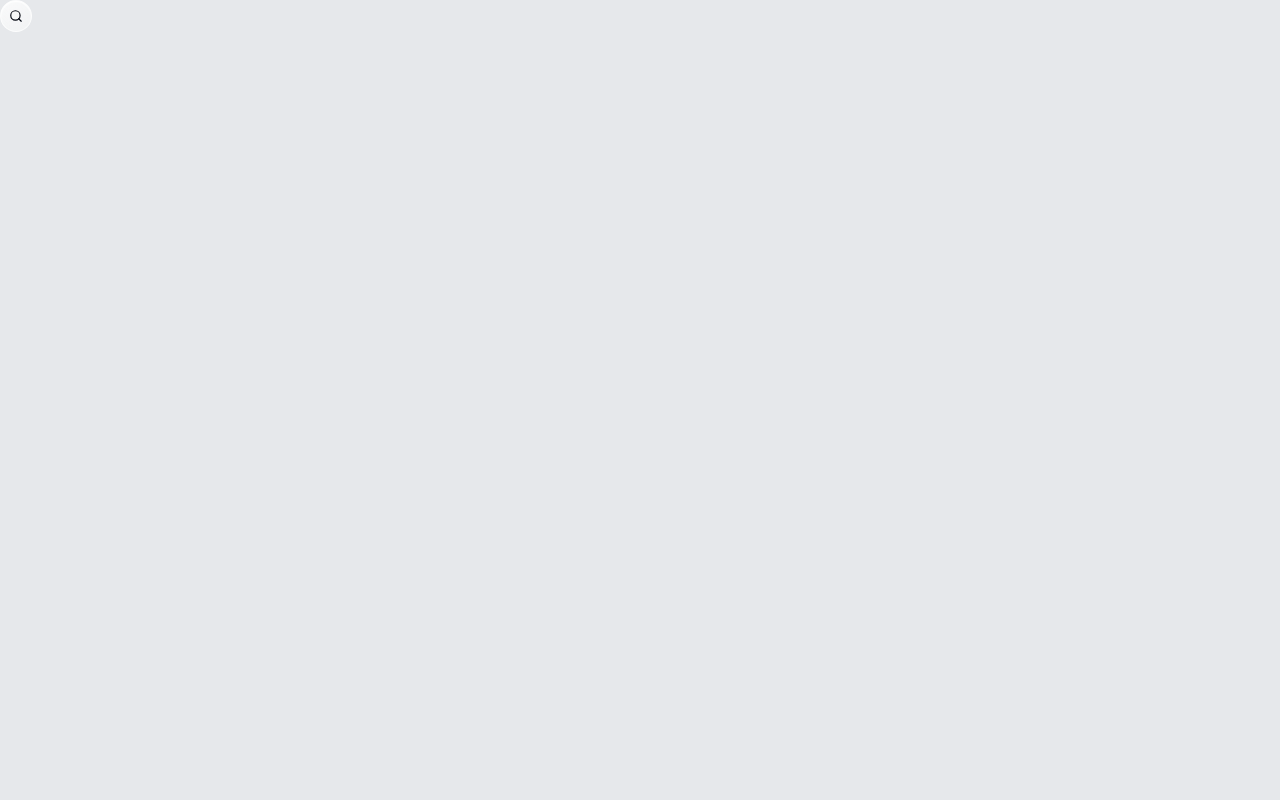
Test: expands, focuses, searches and restores trigger focus on Escape
Click the button named "Search" at (16, 16), box [0,0,32,32]
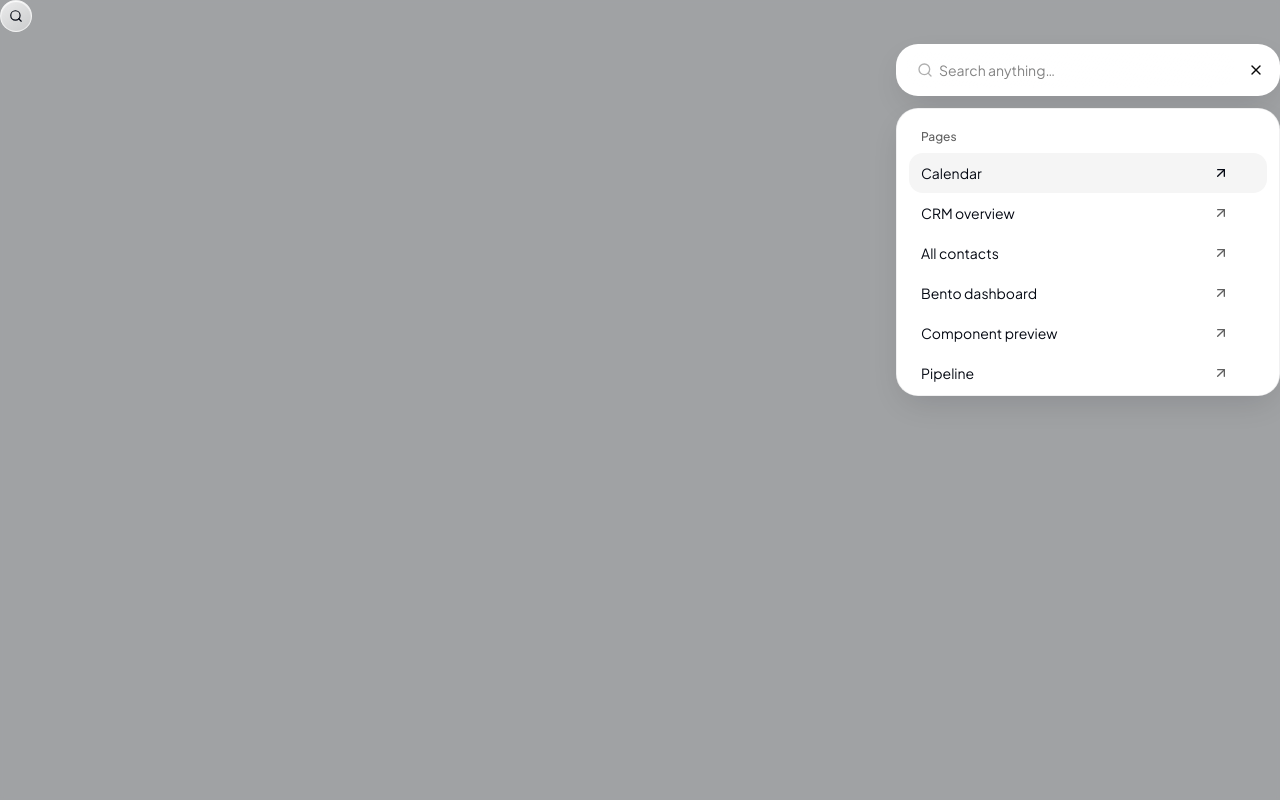
Press Escape in the dropdown, box [933,60,1235,80]
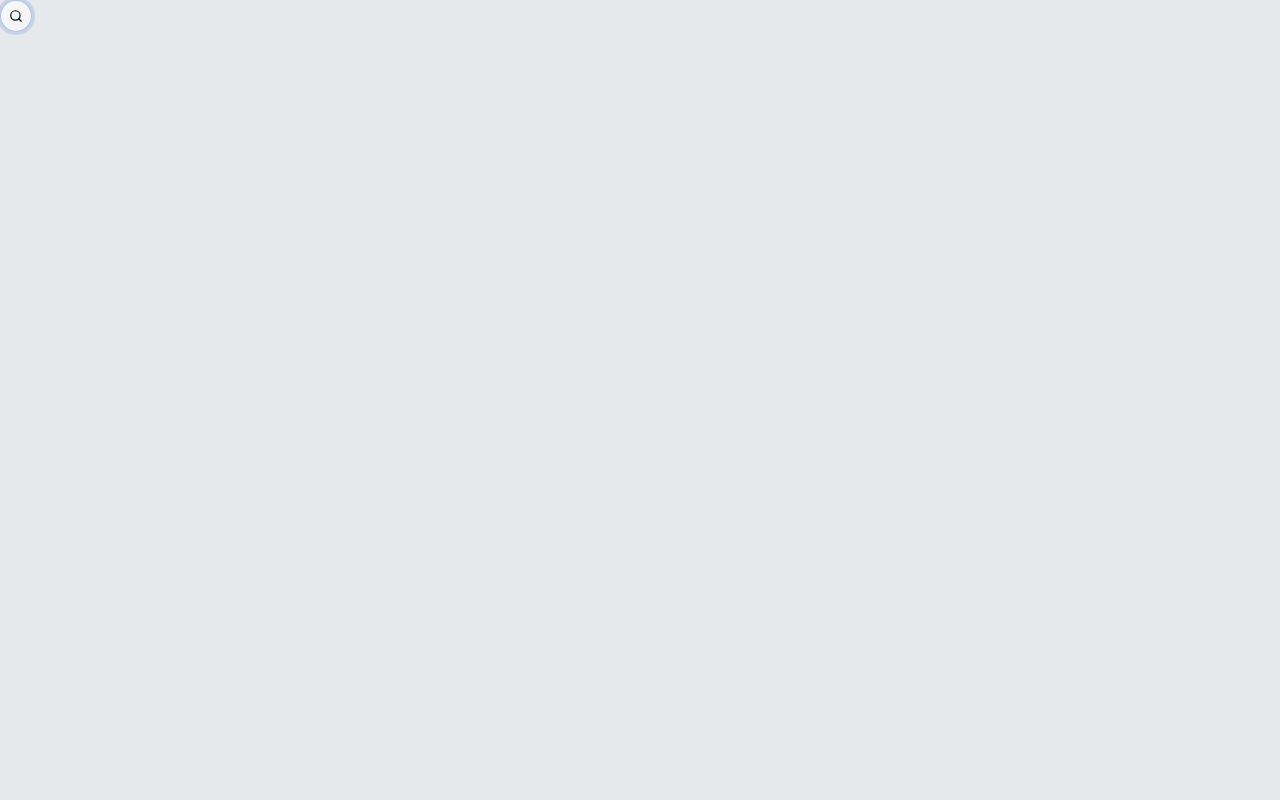
Expected: the button named "Search" is collapsed, [0,0,32,32]
